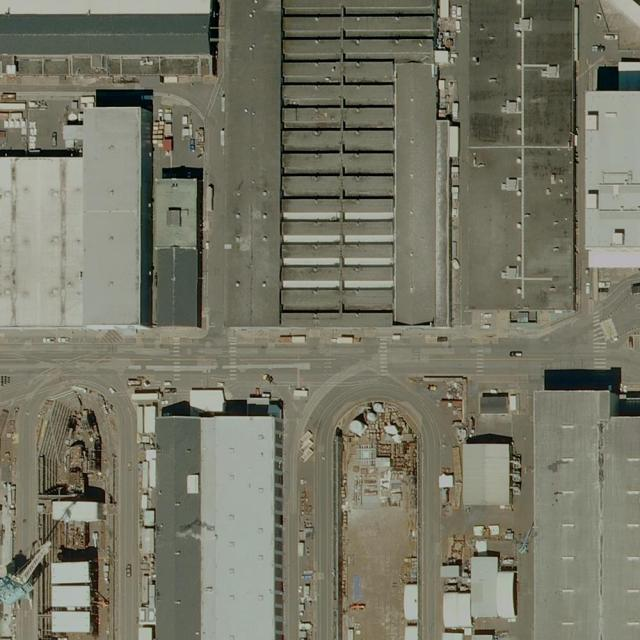building: (460, 0, 575, 310), (156, 415, 275, 639), (534, 392, 640, 639), (534, 390, 610, 639), (0, 14, 210, 56), (82, 211, 140, 325), (82, 107, 141, 211), (585, 184, 640, 267), (156, 246, 198, 326), (155, 179, 198, 248), (462, 444, 510, 505), (470, 556, 500, 618), (51, 501, 101, 523), (51, 561, 90, 585), (51, 585, 90, 608), (496, 571, 515, 618), (51, 611, 91, 633), (190, 387, 225, 412), (402, 583, 419, 622), (442, 592, 459, 628), (458, 592, 471, 628), (404, 625, 419, 639)
metalled_road: (162, 77, 225, 326), (112, 395, 140, 639), (416, 411, 443, 640), (295, 382, 366, 460), (13, 398, 43, 555), (386, 374, 451, 443), (322, 374, 439, 404), (138, 71, 216, 112), (15, 599, 38, 639)
